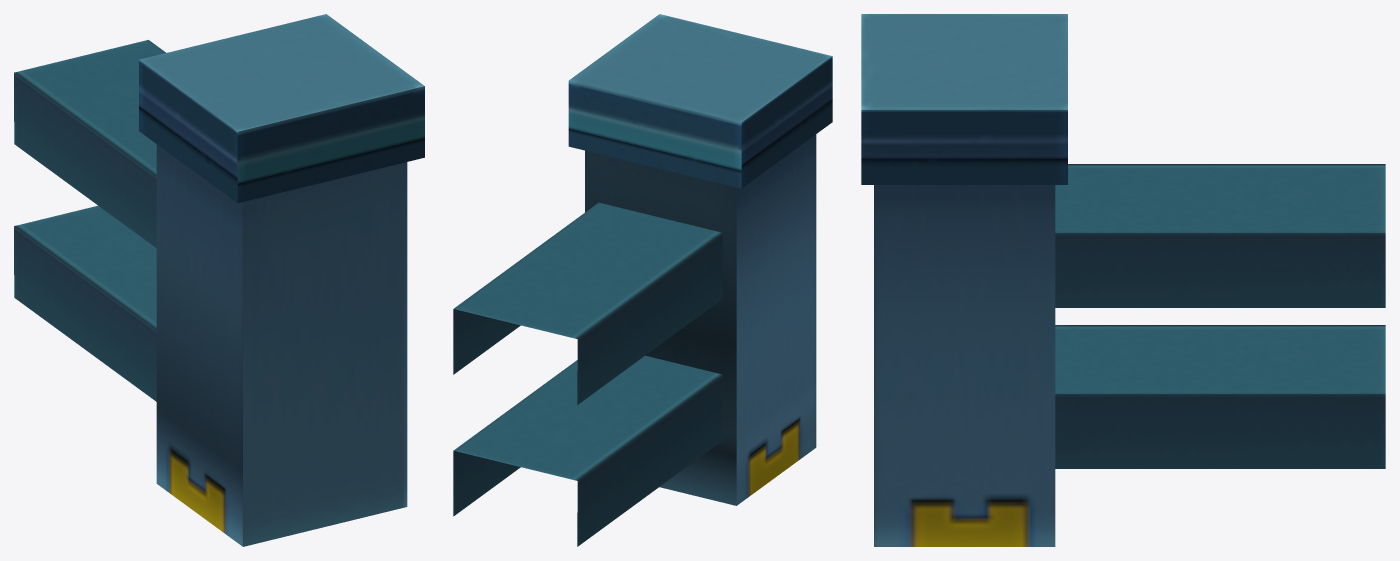
File: LanGan_AHb.fbx
3 renders of one model, left to right at view 1: azimuth 30°, elevation 25°; view 2: azimuth 150°, elevation 25°; view 3: azimuth 270°, elevation 25°, orthographic. The views are drawn at different scales.
Parts seen in each view (by area): view 1: LanGan_AHb; view 2: LanGan_AHb; view 3: LanGan_AHb.
Boxes of the visible parts, x1=… form: LanGan_AHb: x1=14, y1=14, x2=424, y2=546; LanGan_AHb: x1=453, y1=14, x2=832, y2=546; LanGan_AHb: x1=861, y1=14, x2=1385, y2=546.
Size of the model in its own units: 0.1476 by 0.3182 by 0.3412.
Materials: 1 (1 with a texture image).
